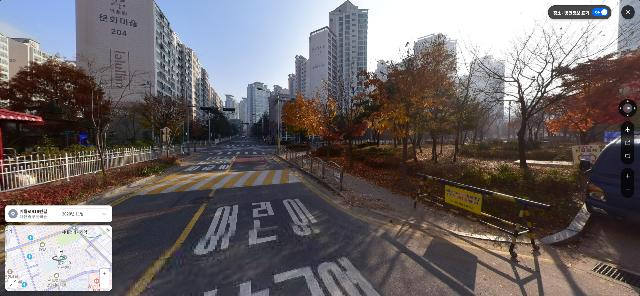other: (447, 4, 632, 169), (358, 33, 474, 184), (53, 52, 160, 180), (546, 48, 640, 149), (0, 54, 102, 147), (314, 50, 380, 165), (427, 84, 491, 162), (132, 91, 198, 161), (281, 92, 328, 151), (195, 101, 241, 145), (250, 110, 278, 140)
